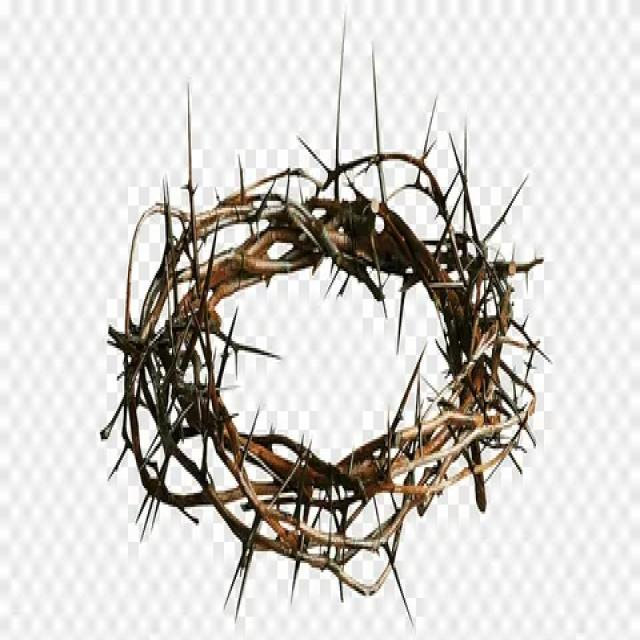crown: (111, 134, 542, 582)
